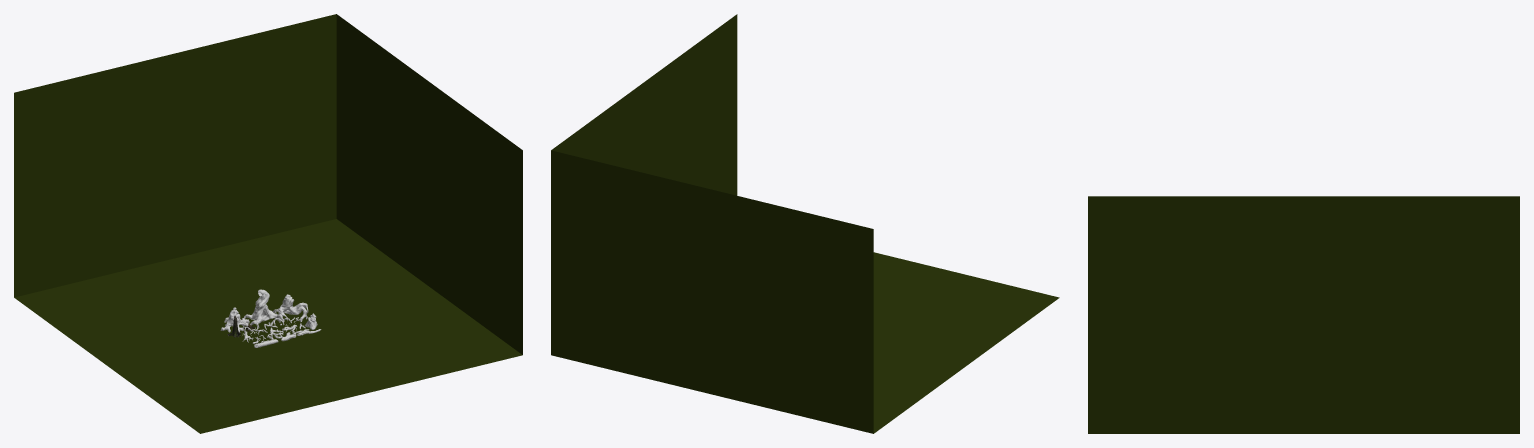
File: 无标题.fbx
The picture shows the model from 3 angles, left to right: view 1: azimuth 30°, elevation 25°; view 2: azimuth 150°, elevation 25°; view 3: azimuth 270°, elevation 25°; orthographic projection. The views are drawn at different scales.
Visible parts, largest first — view 1: 平面, 558, 126; view 2: 平面; view 3: 平面.
Part boxes in pixels (<box>): 平面: <box>14,14,522,433</box>; 558: <box>243,289,284,327</box>; 126: <box>272,294,308,321</box>; 平面: <box>551,14,1059,433</box>; 平面: <box>1088,196,1519,433</box>.
Bounding box in the file's own units: 22326 × 13870 × 22326.
